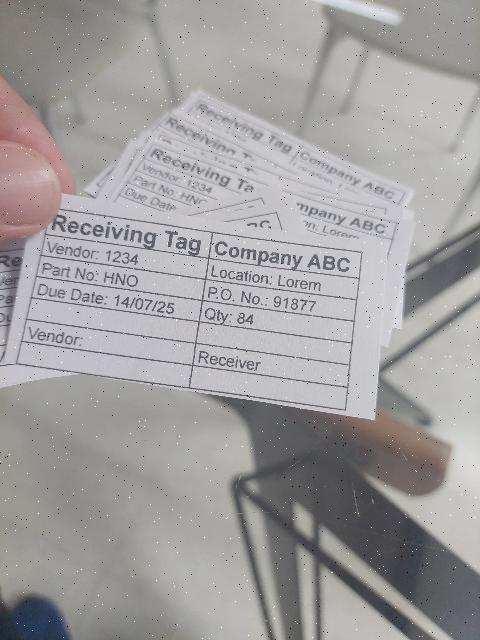PO no: (202, 278, 355, 324)
part no: (35, 253, 207, 300)
qty: (199, 299, 353, 343)
tags: (3, 195, 386, 424)
